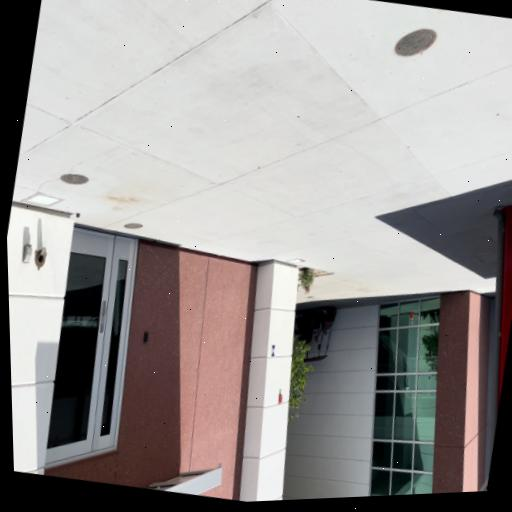target9: (269, 344, 275, 356)
